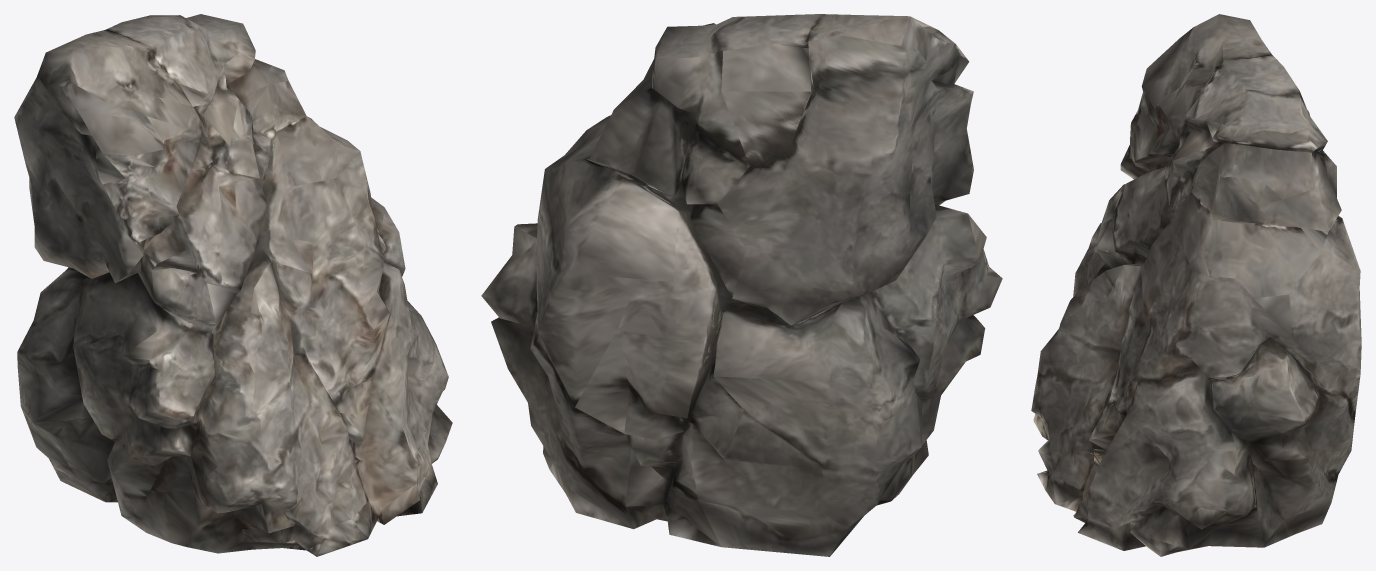
File: crag_d_lod2.glb
The picture shows the model from 3 angles, left to right: view 1: azimuth 30°, elevation 25°; view 2: azimuth 150°, elevation 25°; view 3: azimuth 270°, elevation 25°; orthographic projection. The views are drawn at different scales.
Parts seen in each view (by area): view 1: crag_d_lod2; view 2: crag_d_lod2; view 3: crag_d_lod2.
Part boxes in pixels (x1,y1,x2,y2): crag_d_lod2: (14, 14, 452, 556); crag_d_lod2: (481, 14, 1002, 556); crag_d_lod2: (1031, 14, 1361, 556).
Bounding box in the file's own units: 40.01 × 46.94 × 34.51.
Materials: 1 (1 with a texture image).
